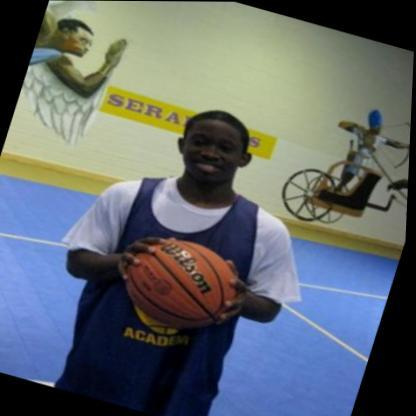basketball: (115, 227, 250, 337)
